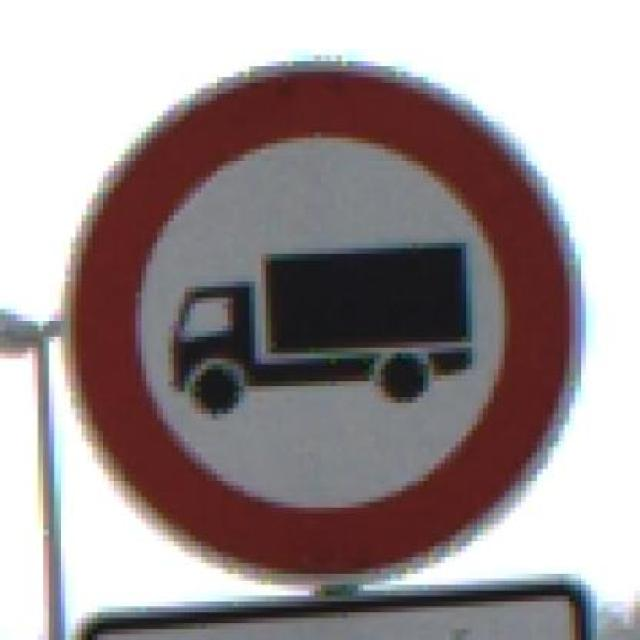Truck traffic is prohibited: (44, 38, 602, 608)
